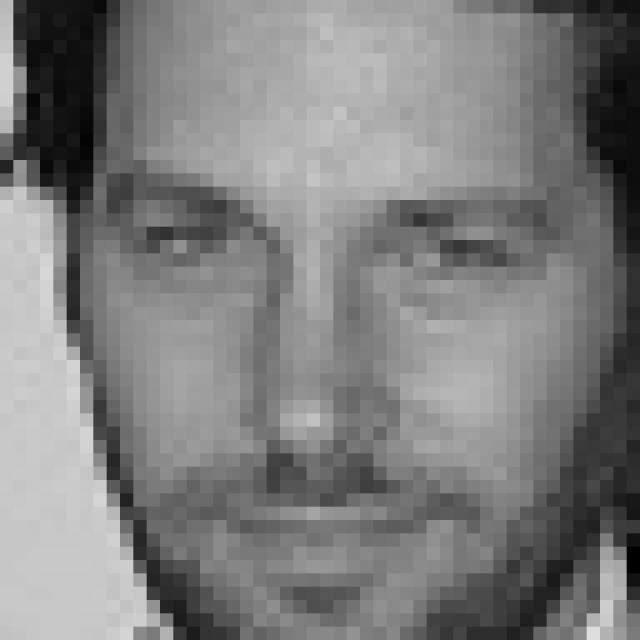neutral: (107, 162, 563, 607)
